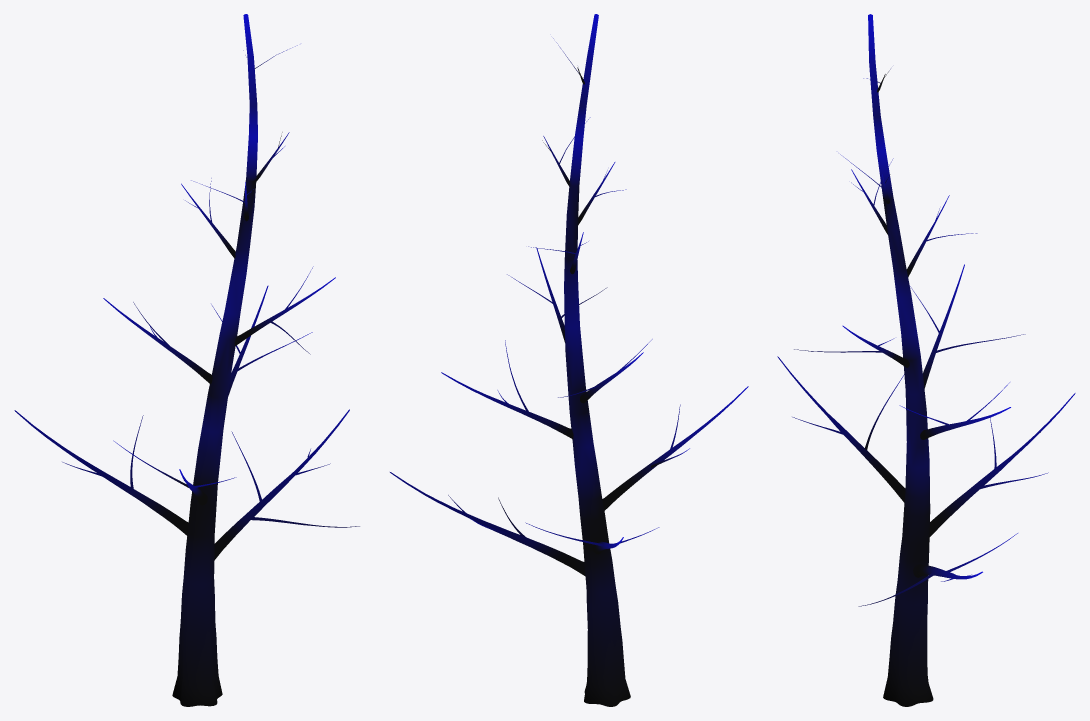
The model's file is Warped Trunk 002.fbx.
3 views of the same model, side by side, from view 1: azimuth 30°, elevation 25°; view 2: azimuth 150°, elevation 25°; view 3: azimuth 270°, elevation 25° (orthographic). The views are drawn at different scales.
Parts seen in each view (by area): view 1: Warped_Trunk_002_LOD0; view 2: Warped_Trunk_002_LOD0; view 3: Warped_Trunk_002_LOD0.
Boxes of the visible parts, bbox=[...] form: Warped_Trunk_002_LOD0: bbox=[14, 14, 359, 706]; Warped_Trunk_002_LOD0: bbox=[390, 14, 748, 706]; Warped_Trunk_002_LOD0: bbox=[777, 14, 1075, 706].
Size of what is drawn, in the model's own units: 437 by 993 by 386.
